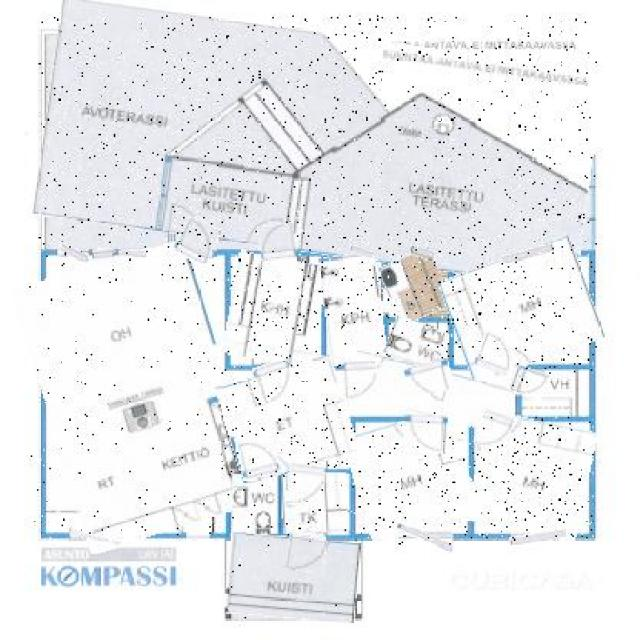door: (175, 219, 217, 263), (255, 359, 297, 403), (404, 415, 448, 454), (405, 361, 452, 397), (238, 437, 278, 478), (288, 464, 324, 508), (477, 411, 512, 451), (288, 534, 324, 572), (477, 336, 514, 372), (257, 225, 295, 260), (508, 366, 548, 399), (341, 362, 377, 398)
window: (396, 529, 452, 548), (501, 246, 554, 260), (509, 530, 566, 542), (69, 530, 122, 542), (59, 248, 90, 263), (410, 248, 436, 260), (92, 249, 114, 260), (350, 248, 372, 257), (120, 252, 146, 258), (186, 534, 211, 540)
zone: (38, 15, 597, 271), (29, 249, 246, 545), (446, 244, 597, 374), (221, 361, 354, 477), (351, 416, 474, 538), (471, 416, 594, 538), (226, 536, 359, 622), (348, 360, 514, 425), (228, 256, 323, 364), (323, 252, 385, 365), (383, 252, 448, 320), (283, 472, 348, 534), (384, 320, 448, 369), (232, 474, 276, 532)
